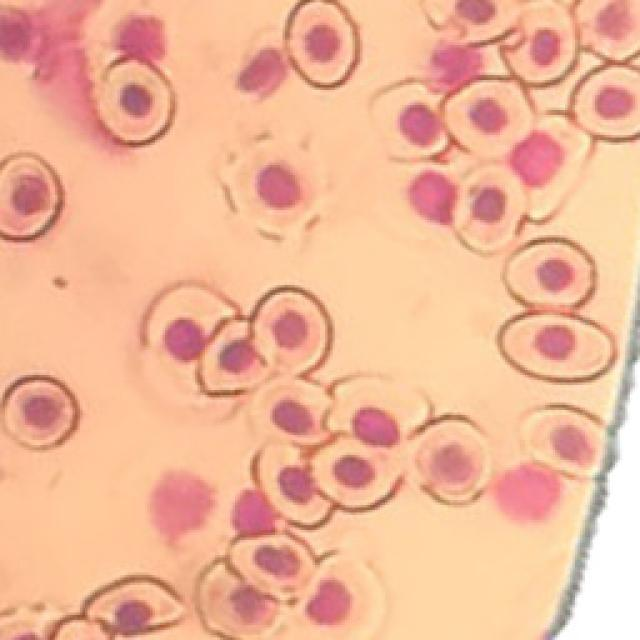RBC: (220, 139, 326, 239), (141, 282, 240, 379), (509, 115, 592, 221), (499, 312, 616, 381), (296, 555, 386, 640), (326, 376, 430, 449), (410, 415, 491, 504), (198, 559, 286, 640), (444, 81, 534, 158), (452, 164, 528, 254), (252, 288, 331, 374), (311, 436, 401, 510), (95, 60, 174, 144), (254, 442, 332, 527), (502, 1, 578, 85), (504, 238, 595, 308), (286, 0, 358, 87), (521, 405, 606, 477), (371, 81, 449, 159), (84, 576, 185, 634), (1, 375, 79, 449), (229, 534, 315, 601), (249, 378, 331, 446), (0, 152, 62, 240), (199, 319, 269, 395), (572, 66, 640, 139), (422, 0, 520, 45)
WBC: (151, 471, 214, 543), (495, 464, 561, 521), (430, 42, 482, 92), (409, 170, 456, 224), (238, 48, 288, 97), (116, 15, 165, 62), (232, 489, 276, 536), (0, 9, 31, 60)
